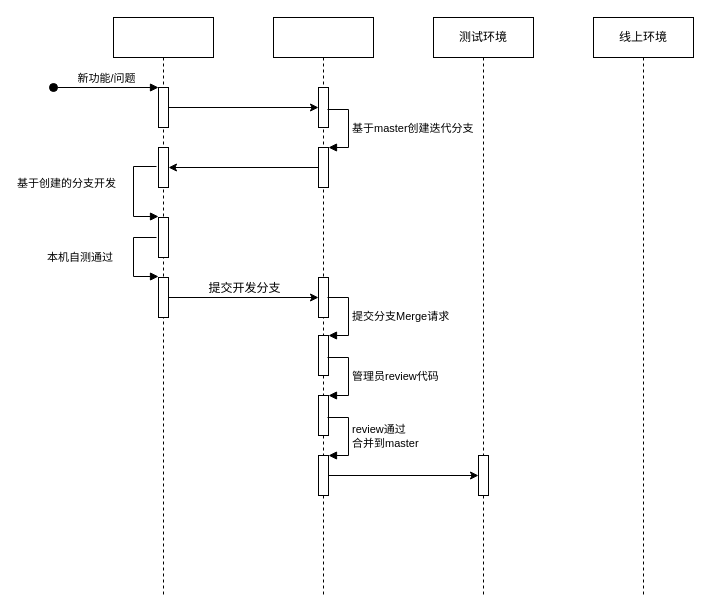
The diagram is 711 pixels wide and 615 high, and some of its shapes have lost their labels. The centre of each missing label's shape, as x and y in pixels:
"代码库" belongs at point 323,307.
"开发人员" belongs at point 163,307.
